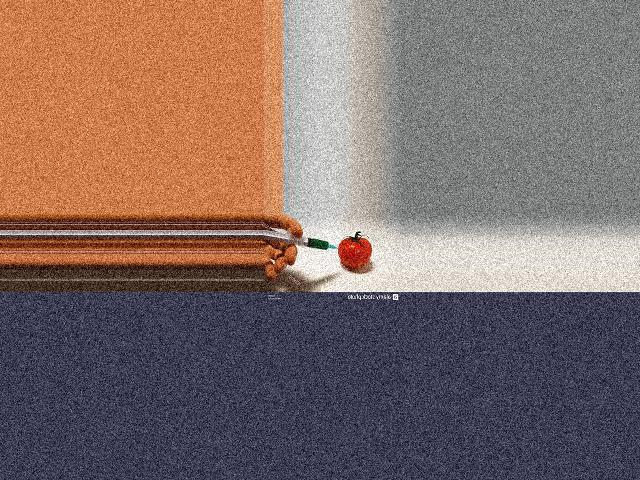tomato: (337, 238, 370, 268)
